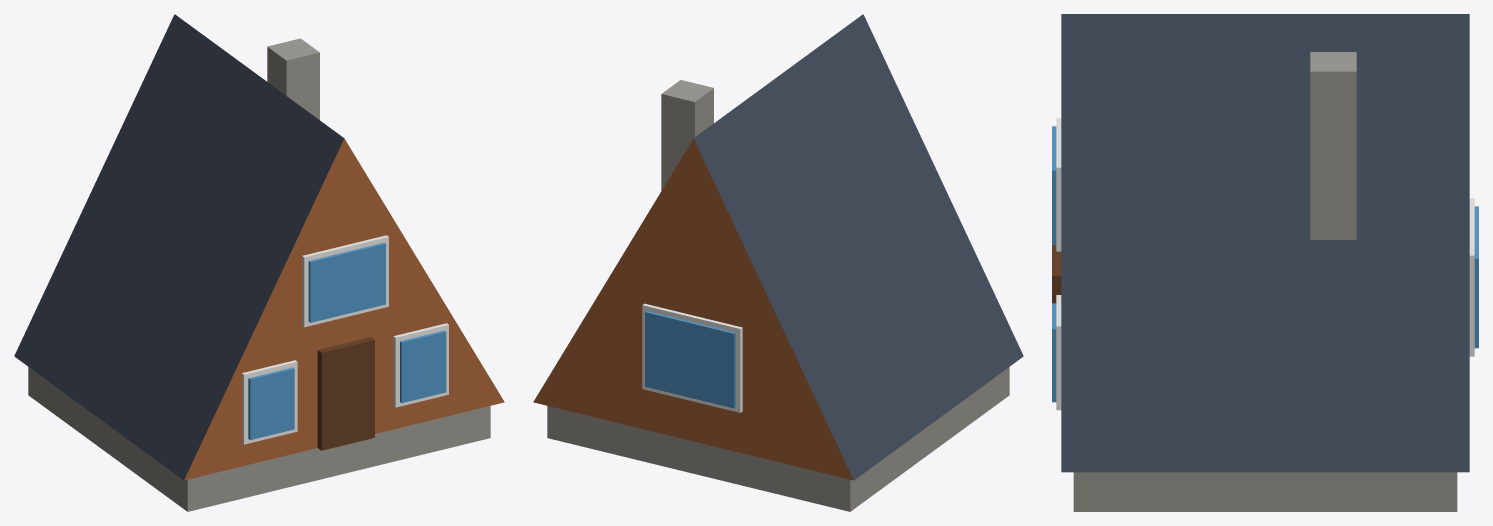
File: 06_alpine_chalet_3.obj
The picture shows the model from 3 angles, left to right: view 1: azimuth 30°, elevation 25°; view 2: azimuth 150°, elevation 25°; view 3: azimuth 270°, elevation 25°; orthographic projection. The views are drawn at different scales.
Visible parts, largest first — view 1: 06_alpine_chalet_3; view 2: 06_alpine_chalet_3; view 3: 06_alpine_chalet_3.
Boxes of the visible parts, box(x1,y1,x2,y2) form: 06_alpine_chalet_3: box(14, 14, 504, 511); 06_alpine_chalet_3: box(533, 14, 1023, 511); 06_alpine_chalet_3: box(1052, 14, 1478, 511).
Size of the model in its own units: 1.44 by 1.46 by 1.38.
